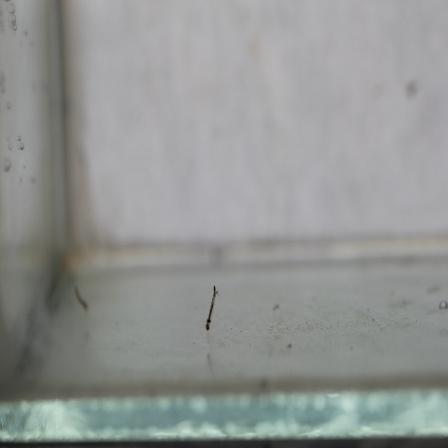Jentik-Nyamuk: (203, 281, 221, 335)
